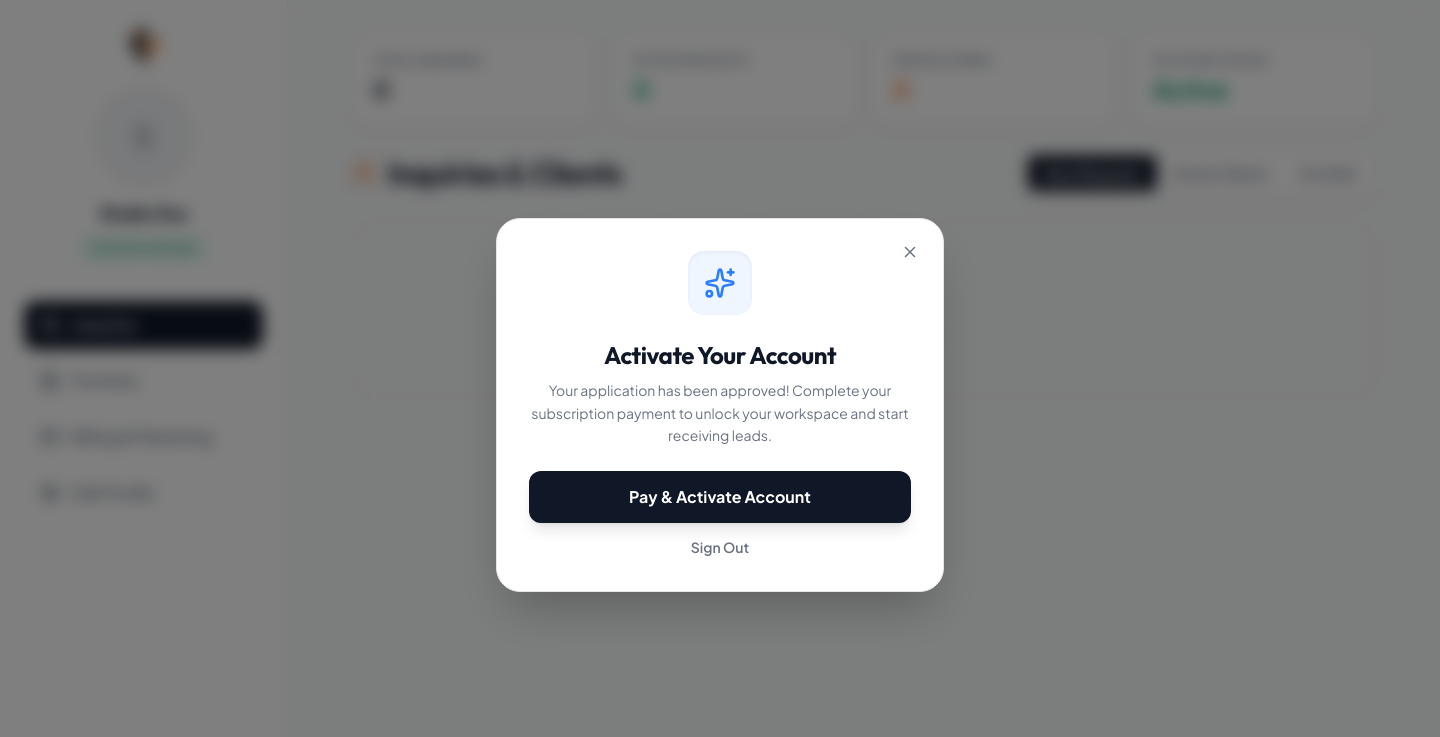
existing full designer profile editor inside the dashboard › verifies payment and preserves the publication setting
Expected: the heading "Inquiries & Clients" is shown, x1=352 y1=155 x2=621 y2=191
Click the button "Pay & Activate Account" at [720, 497], box x1=529 y1=471 x2=911 y2=523
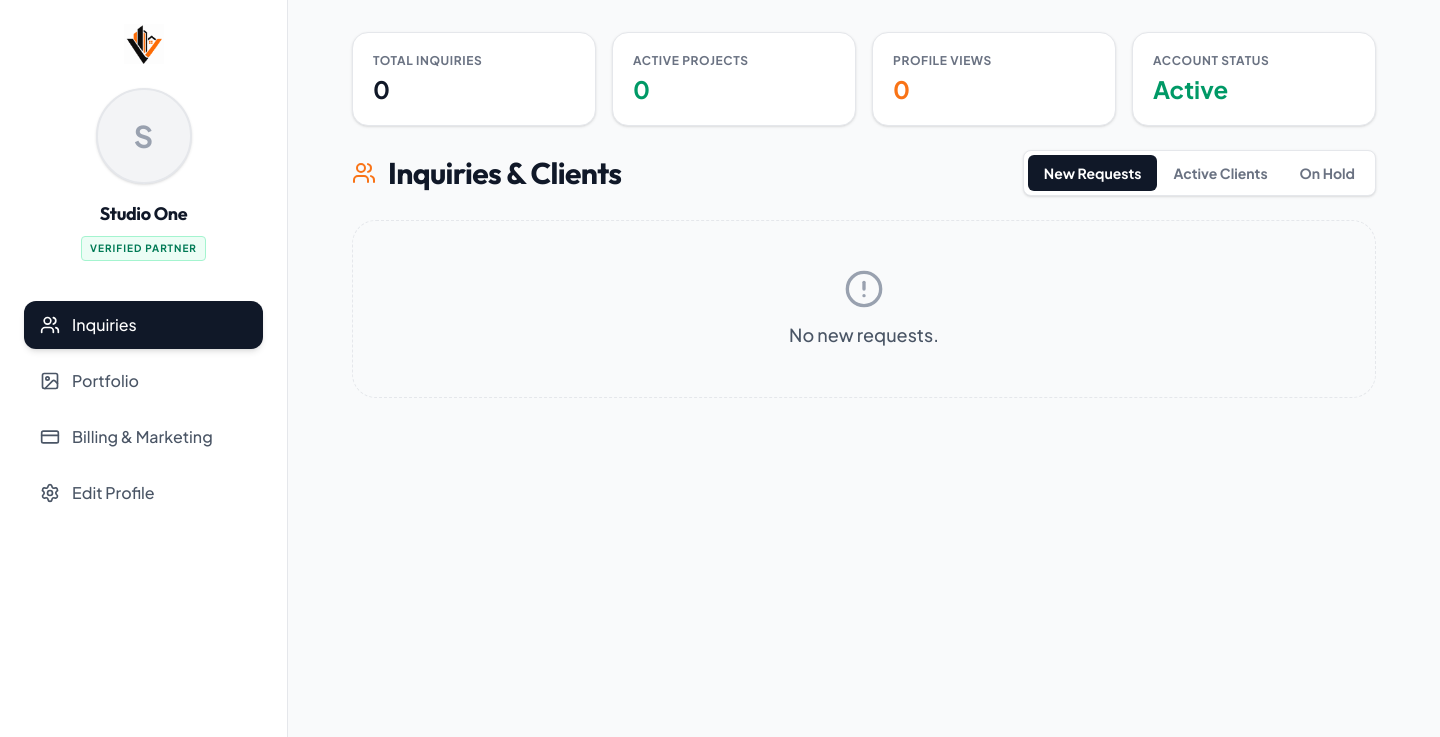
Click the button "Edit Profile" at [144, 493], box x1=24 y1=469 x2=263 y2=517
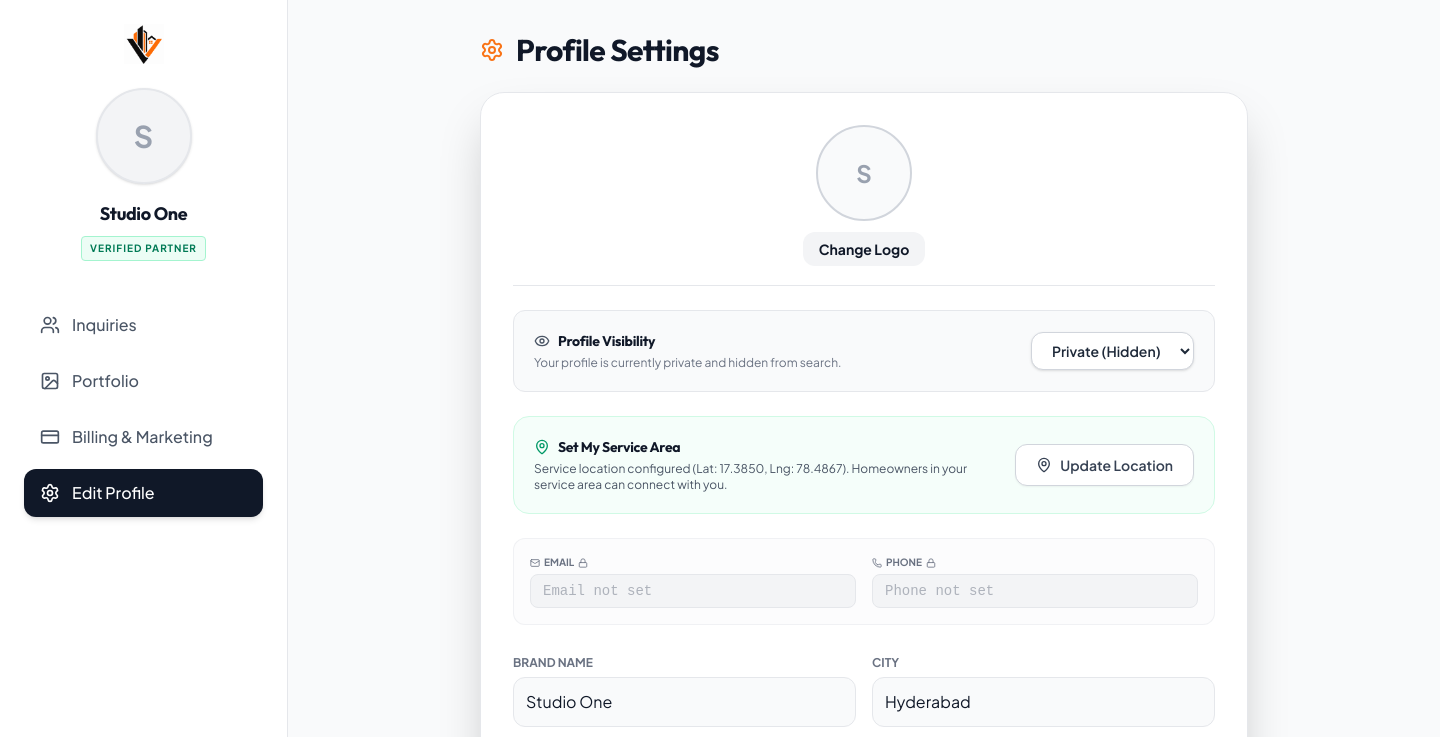
Expected: the heading "Profile Settings" is shown, x1=480 y1=31 x2=719 y2=69
